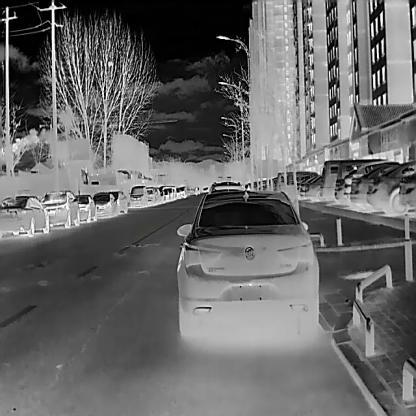car: (176, 191, 319, 350), (319, 158, 389, 204), (349, 161, 408, 210), (366, 159, 415, 212), (0, 193, 49, 237), (41, 190, 80, 228), (399, 171, 416, 213), (93, 192, 117, 218), (75, 193, 96, 222), (106, 189, 127, 213), (129, 185, 148, 208)
